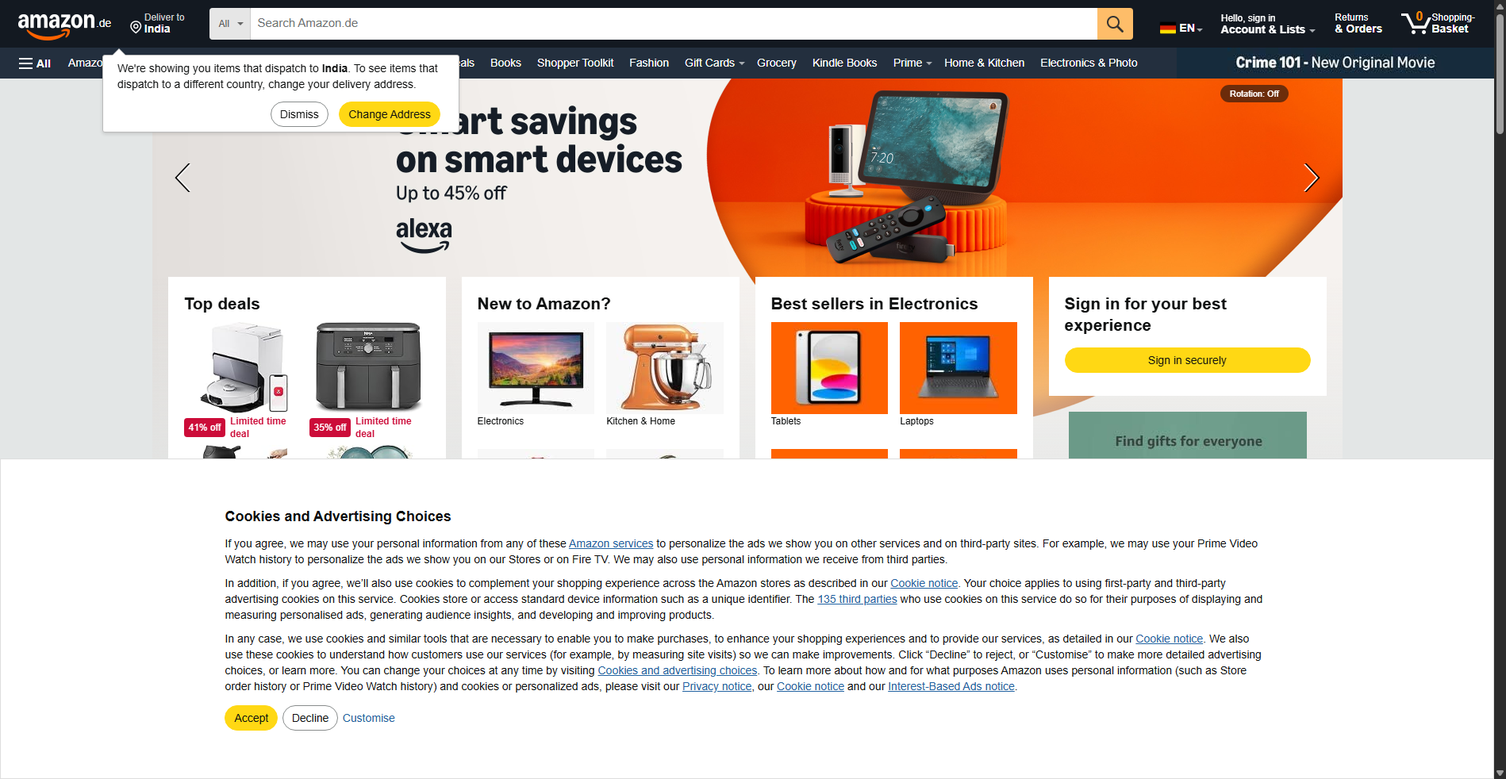general_button: (152, 79, 1342, 261), (225, 705, 1269, 731), (152, 79, 219, 277), (1275, 79, 1342, 277), (1064, 347, 1310, 373), (1065, 348, 1310, 372), (123, 4, 192, 44), (339, 102, 440, 127), (340, 102, 440, 126), (282, 705, 338, 731), (225, 705, 278, 731), (271, 102, 328, 126), (283, 706, 337, 730), (226, 706, 277, 730), (1220, 85, 1288, 102), (1196, 29, 1203, 32), (739, 62, 745, 65), (926, 62, 932, 65)
general_image: (152, 79, 1342, 555), (1342, 79, 1506, 555), (0, 79, 152, 555), (1068, 412, 1306, 610), (1037, 671, 1338, 779), (744, 671, 1044, 779), (170, 693, 443, 779), (591, 322, 739, 414), (591, 449, 739, 541), (591, 671, 739, 763), (462, 322, 609, 414), (462, 449, 609, 541), (756, 322, 903, 414), (885, 322, 1032, 414), (756, 449, 903, 541), (885, 449, 1032, 541), (462, 671, 609, 763), (309, 445, 430, 536), (184, 322, 304, 413), (184, 445, 304, 536), (1177, 48, 1494, 79)
general_input: (1098, 8, 1133, 40)
general_link: (152, 79, 1342, 317), (1342, 79, 1506, 555), (0, 79, 152, 555), (1068, 412, 1306, 610), (771, 671, 1017, 779), (1064, 671, 1310, 779), (184, 693, 430, 779), (309, 322, 430, 440), (309, 445, 430, 563), (184, 322, 304, 440), (184, 445, 304, 563), (477, 322, 594, 414), (606, 322, 723, 414), (477, 449, 594, 541), (606, 449, 723, 541), (771, 322, 888, 414), (900, 322, 1017, 414), (771, 449, 888, 541), (900, 449, 1017, 541), (477, 671, 594, 763), (606, 671, 723, 763), (1177, 48, 1494, 79), (13, 4, 119, 44), (1214, 4, 1309, 44), (184, 581, 430, 594), (477, 581, 723, 594), (771, 581, 1017, 594), (901, 83, 1029, 105), (336, 83, 459, 105), (1328, 4, 1390, 44), (134, 83, 240, 105), (1037, 52, 1141, 74), (467, 83, 571, 105), (64, 113, 160, 136), (579, 83, 678, 105), (1036, 83, 1133, 105), (598, 664, 757, 677), (940, 52, 1029, 74), (250, 113, 335, 136), (686, 83, 774, 105), (309, 52, 394, 74), (533, 52, 618, 74), (248, 83, 328, 105), (222, 52, 301, 74), (168, 113, 242, 136), (402, 52, 479, 74), (888, 680, 1015, 693), (64, 52, 139, 74), (808, 52, 881, 74), (782, 83, 852, 105), (147, 52, 214, 74), (1158, 5, 1195, 44), (64, 83, 126, 105), (681, 52, 739, 74), (569, 537, 653, 550), (625, 52, 673, 74), (753, 52, 801, 74), (817, 593, 897, 605), (682, 680, 752, 693), (1136, 632, 1203, 645), (777, 680, 844, 693), (486, 52, 525, 74), (889, 52, 926, 74), (891, 577, 958, 589), (860, 83, 893, 105), (343, 712, 395, 725), (6, 79, 20, 91)
icon_cart: (309, 322, 430, 413), (1394, 4, 1482, 44), (1401, 13, 1432, 34)
icon_close: (270, 102, 328, 127)
icon_menu: (12, 48, 58, 79)
icon_profile: (1310, 29, 1316, 32)
icon_search: (251, 9, 1098, 39), (211, 8, 425, 36)
